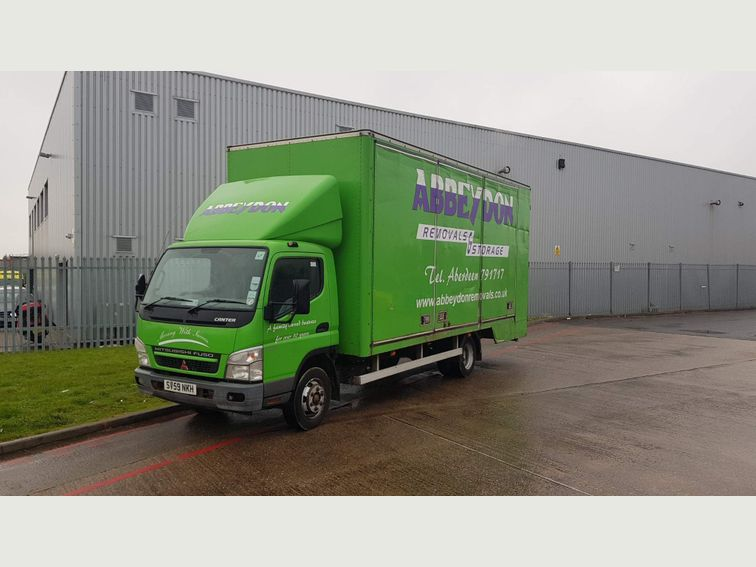Semi: (133, 128, 530, 432)
